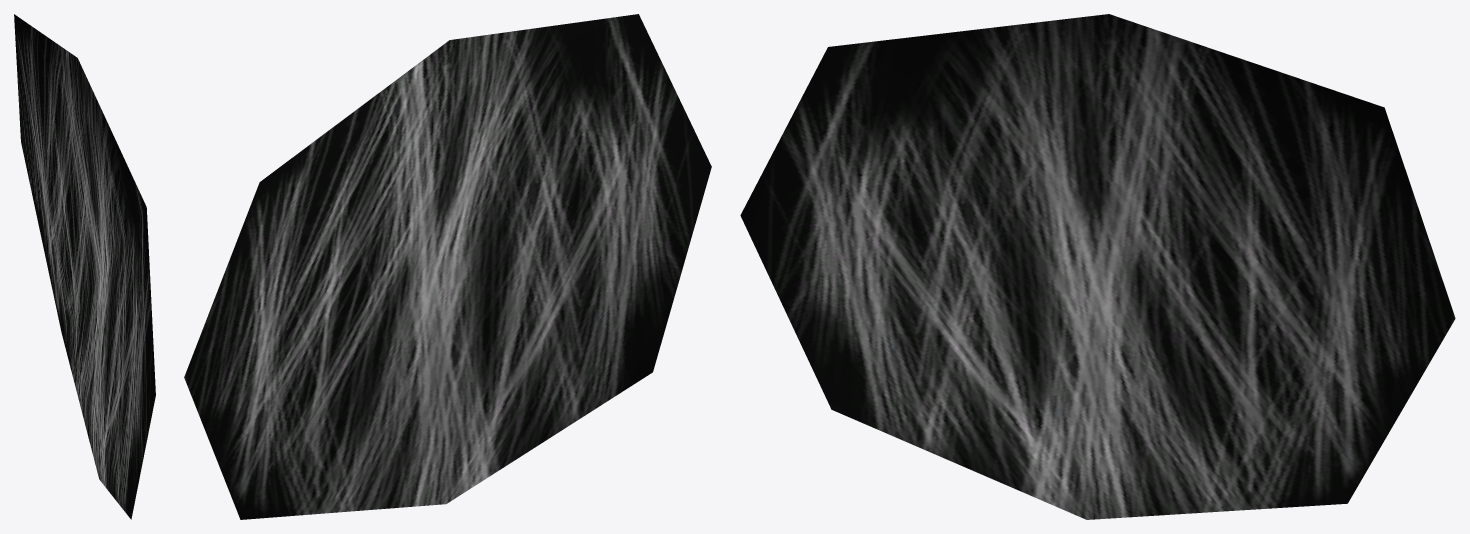
The model's file is MIRKWOOD_SPIDERWEB_COVERS12.fbx.
3 views of the same model, side by side, from view 1: azimuth 30°, elevation 25°; view 2: azimuth 150°, elevation 25°; view 3: azimuth 270°, elevation 25° (orthographic). The views are drawn at different scales.
Parts seen in each view (by area): view 1: MIRKWOOD_SPIDERWEB_COVERS12; view 2: MIRKWOOD_SPIDERWEB_COVERS12; view 3: MIRKWOOD_SPIDERWEB_COVERS12.
Boxes of the visible parts, x1,y1,x2,y2 form: MIRKWOOD_SPIDERWEB_COVERS12: [14, 14, 155, 519]; MIRKWOOD_SPIDERWEB_COVERS12: [184, 14, 711, 519]; MIRKWOOD_SPIDERWEB_COVERS12: [740, 14, 1455, 519].
Size of the model in its own units: 12398 by 30092 by 39100.
1 material, 1 textured.
